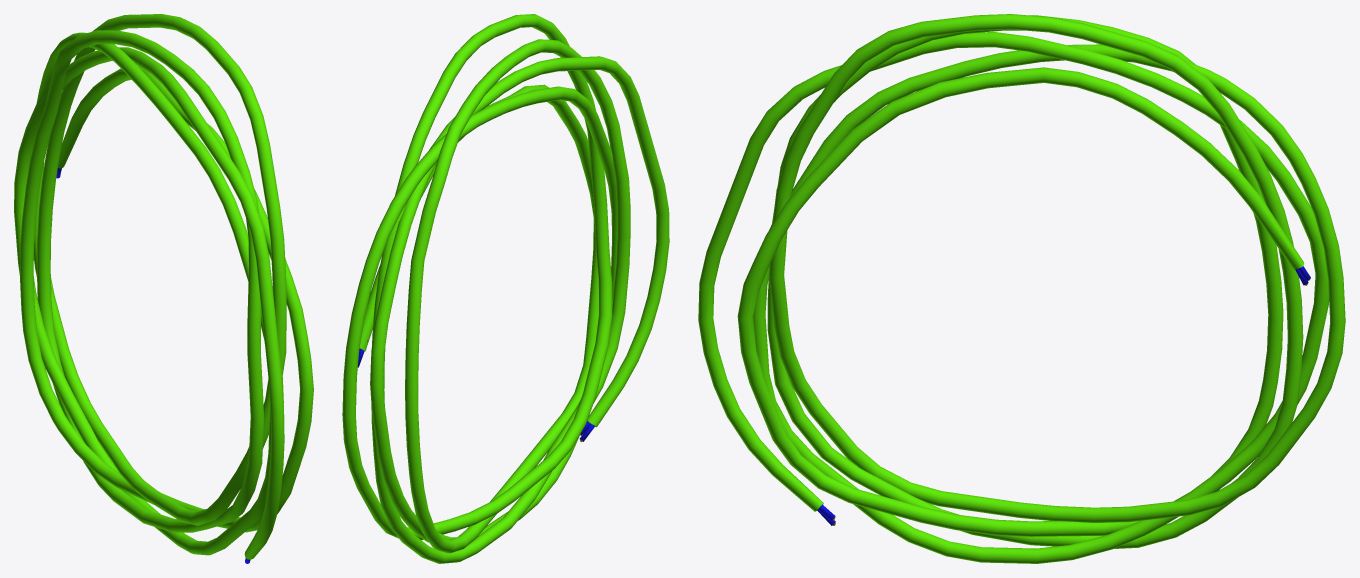
File: CabelBig.fbx
3 renders of one model, left to right at view 1: azimuth 30°, elevation 25°; view 2: azimuth 150°, elevation 25°; view 3: azimuth 270°, elevation 25°, orthographic. The views are drawn at different scales.
Visible parts, largest first — view 1: Toolbox_Cabel; view 2: Toolbox_Cabel; view 3: Toolbox_Cabel.
Part boxes in pixels (x1,y1,x2,y2): Toolbox_Cabel: [14, 14, 313, 559]; Toolbox_Cabel: [342, 14, 669, 563]; Toolbox_Cabel: [698, 14, 1345, 563].
Bounding box in the file's own units: 2.87 × 20.4 × 21.26.
